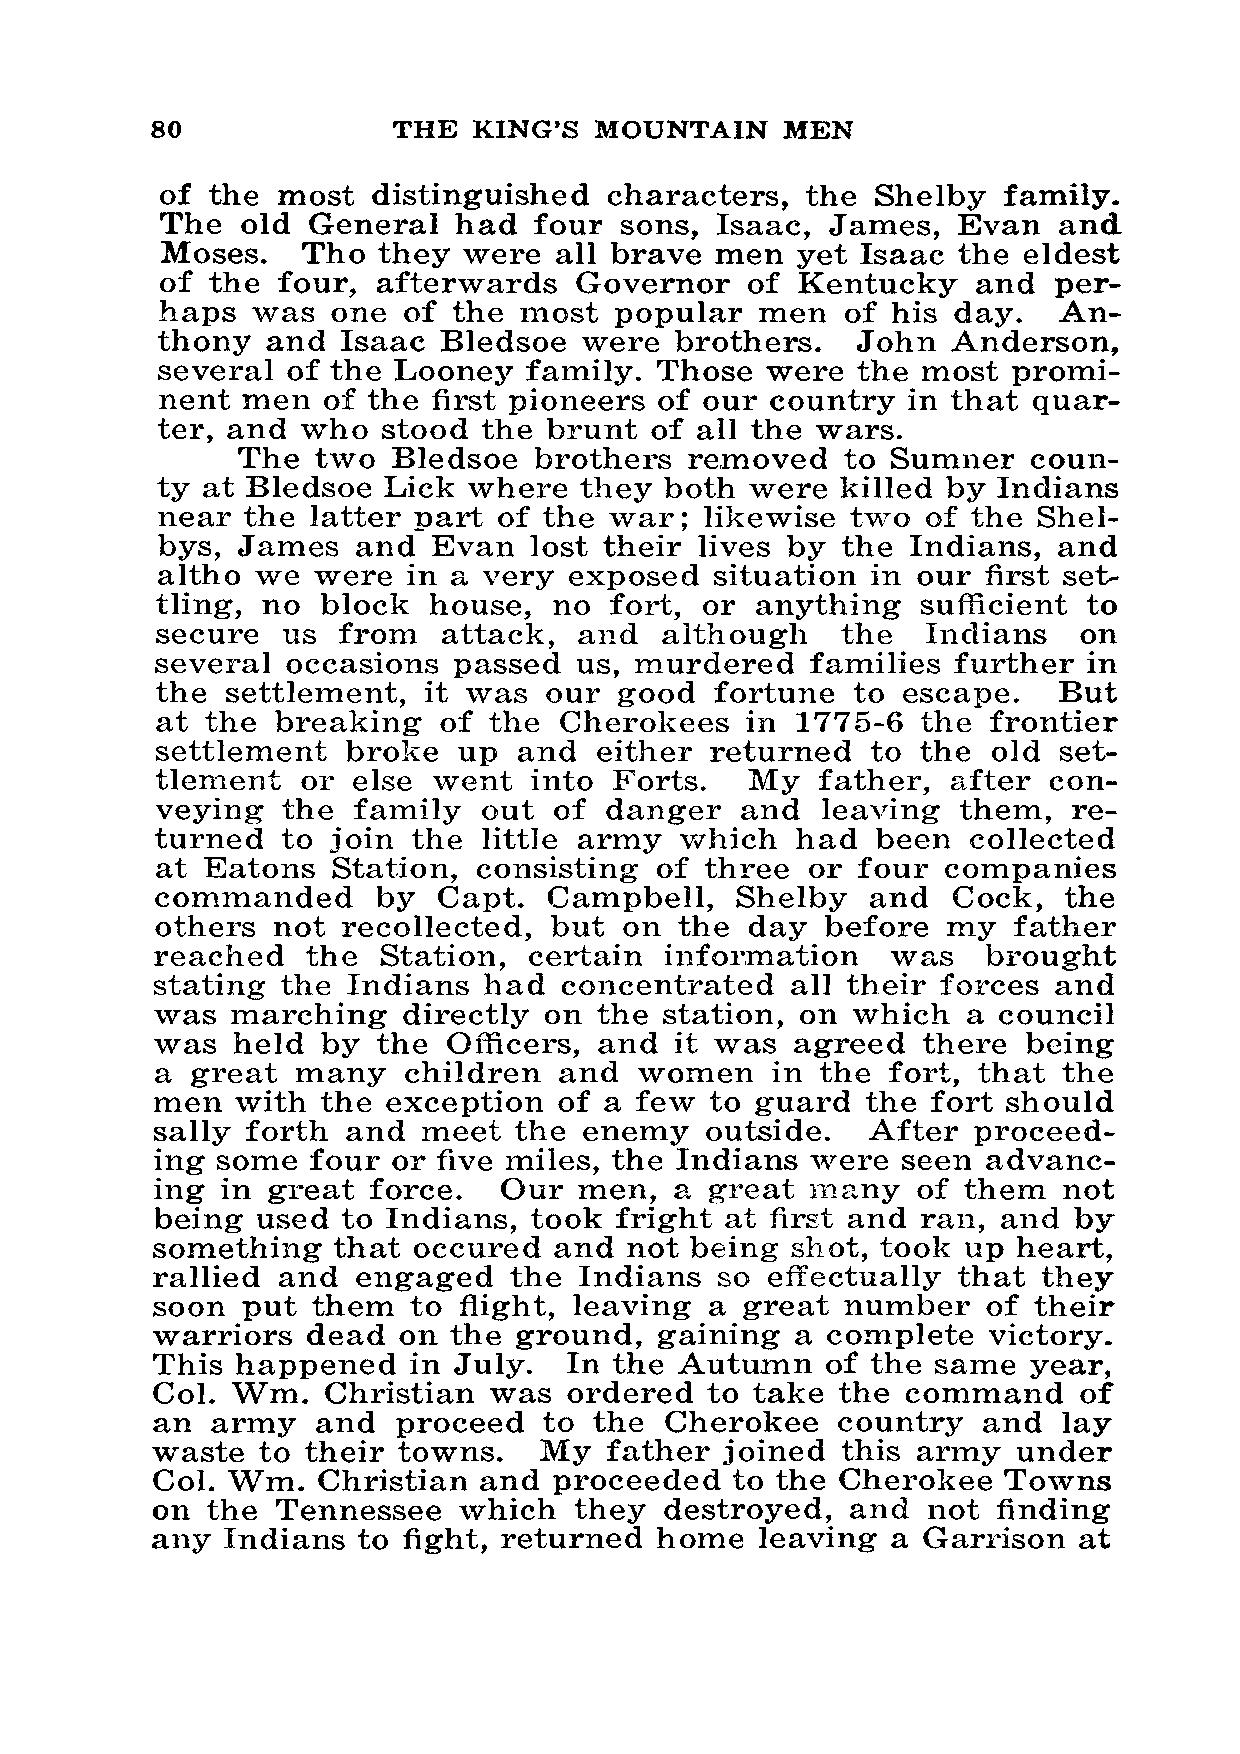content: (152, 178, 1122, 1555)
content_chapter: (389, 113, 854, 146)
content_pagenumber: (144, 111, 187, 141)
